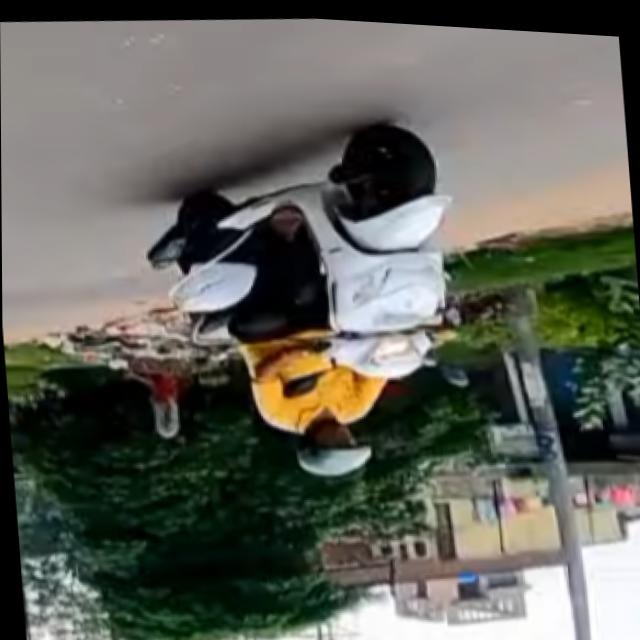normal: (176, 91, 509, 504)
